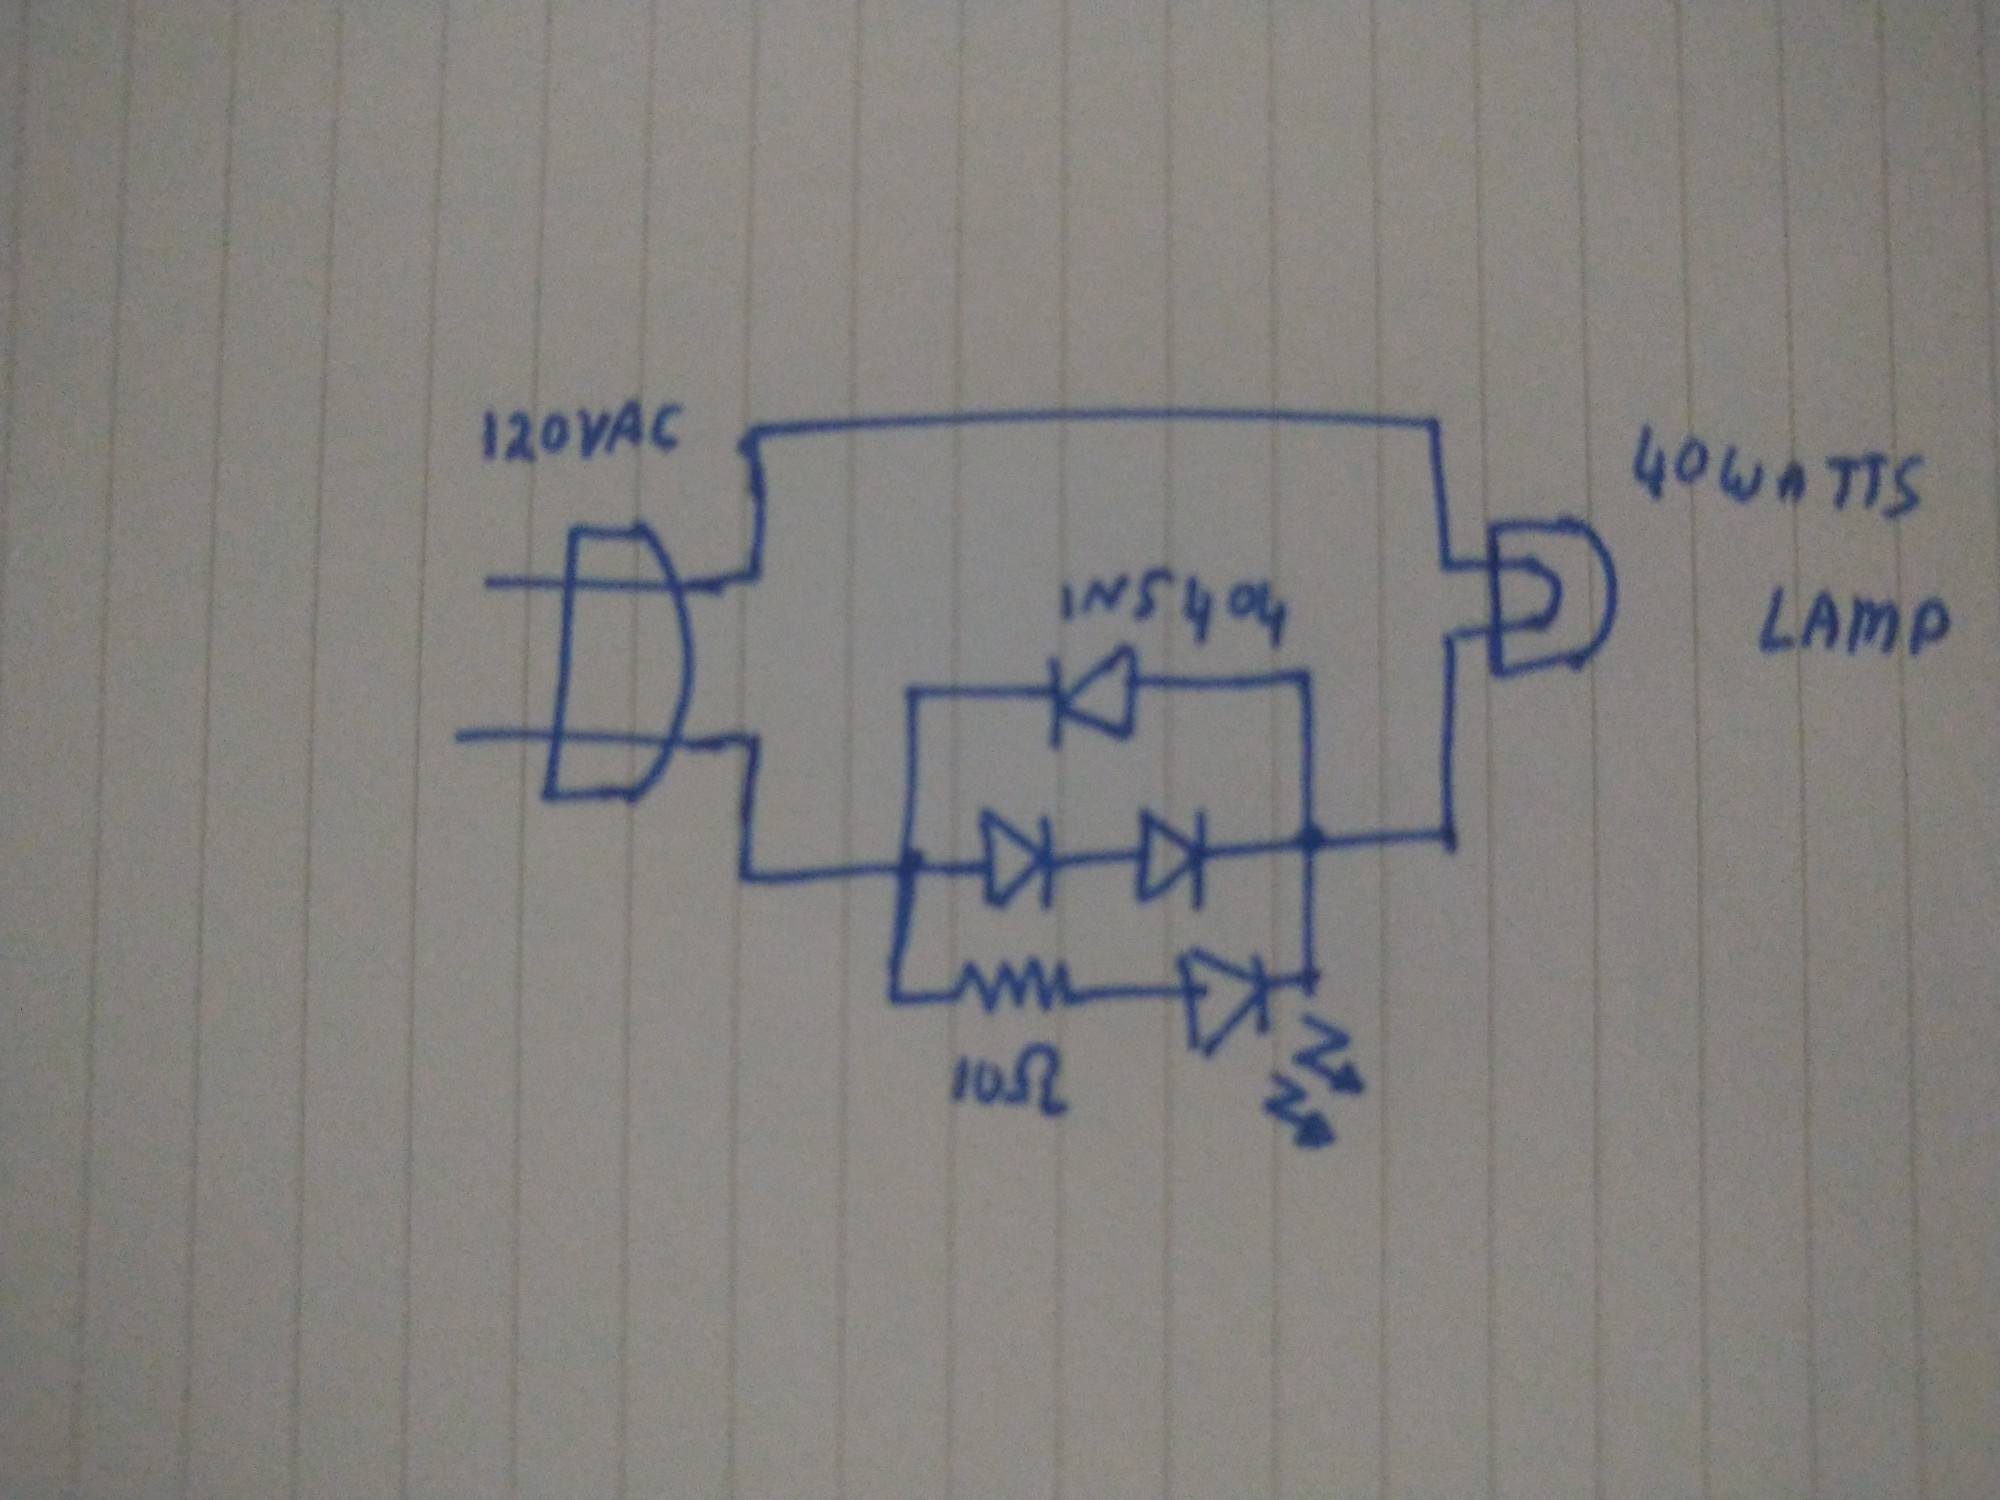diode: (1036, 641, 1156, 755), (965, 797, 1076, 920), (1118, 789, 1224, 917)
diode.light_emitting: (1162, 934, 1387, 1172)
junction: (1419, 808, 1482, 860), (1280, 815, 1335, 867), (724, 411, 781, 462), (880, 841, 935, 890), (723, 718, 780, 766), (891, 674, 939, 717), (734, 553, 776, 600), (1287, 657, 1331, 700), (1413, 402, 1457, 443), (874, 971, 912, 1018), (728, 857, 765, 903), (1431, 544, 1468, 586), (1431, 622, 1468, 655)
lamp: (1480, 506, 1630, 687)
resistor: (945, 950, 1080, 1019)
socket: (534, 515, 702, 815)
terminal: (438, 715, 488, 756), (468, 566, 512, 603)
text: (1622, 418, 1935, 536), (1050, 559, 1299, 651), (1746, 574, 1954, 673), (469, 392, 687, 466), (931, 1029, 1080, 1123)
